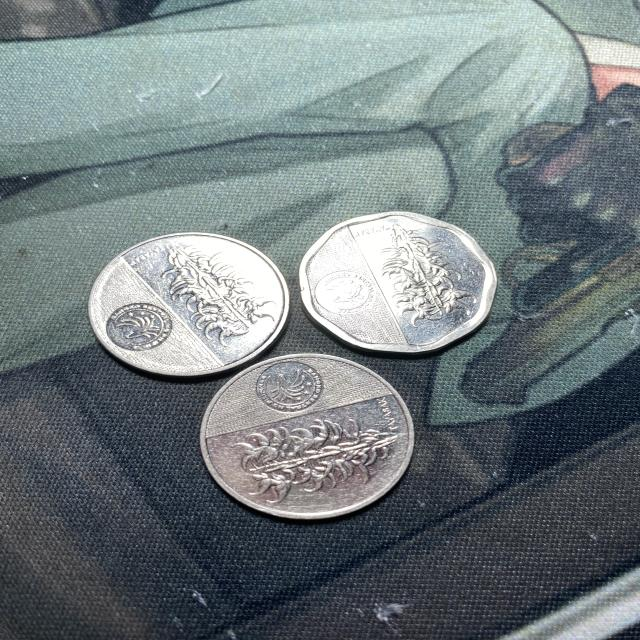5_New_Back: (241, 421, 402, 498), (165, 246, 276, 338), (382, 220, 470, 324)
